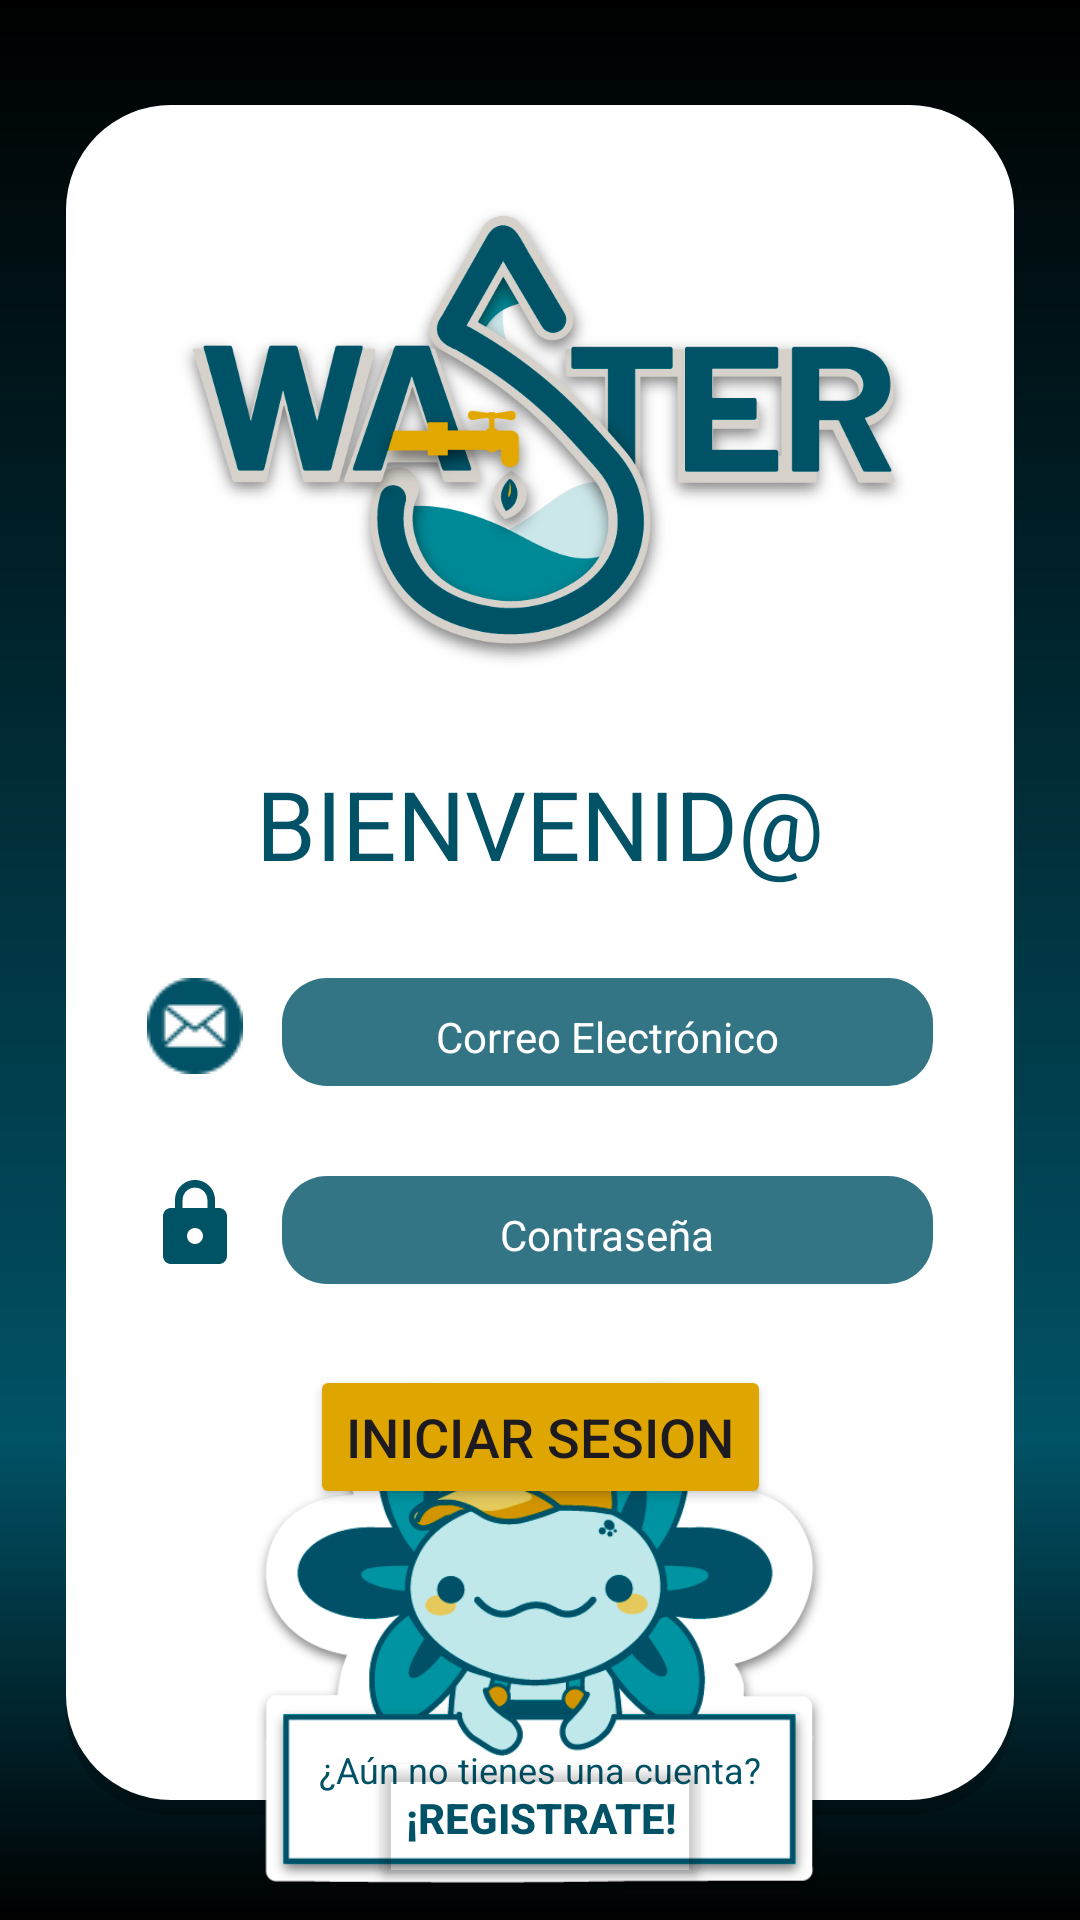

Icon click points for this 1080×1920 phone screenshot, format [x,y]:
lock: [195,1222]
